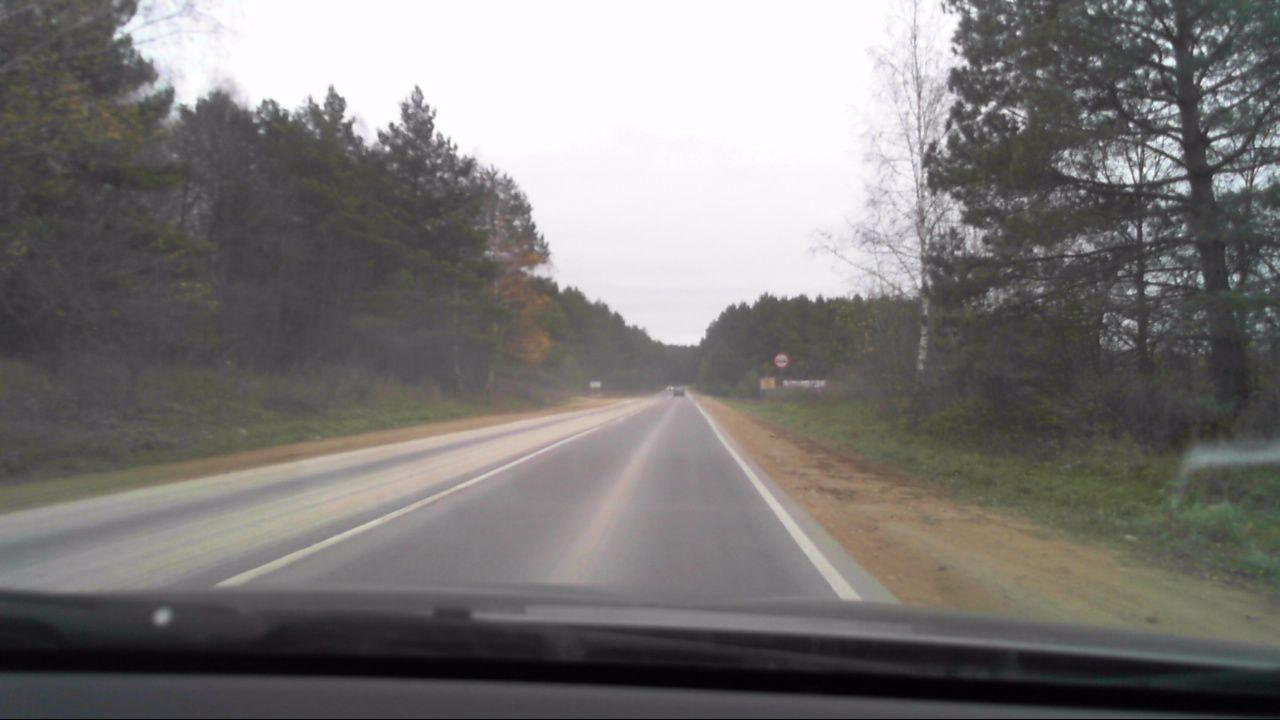3_20: (770, 351, 793, 370)
